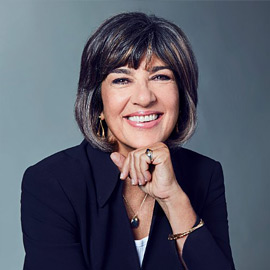person: (79, 10, 198, 152)
